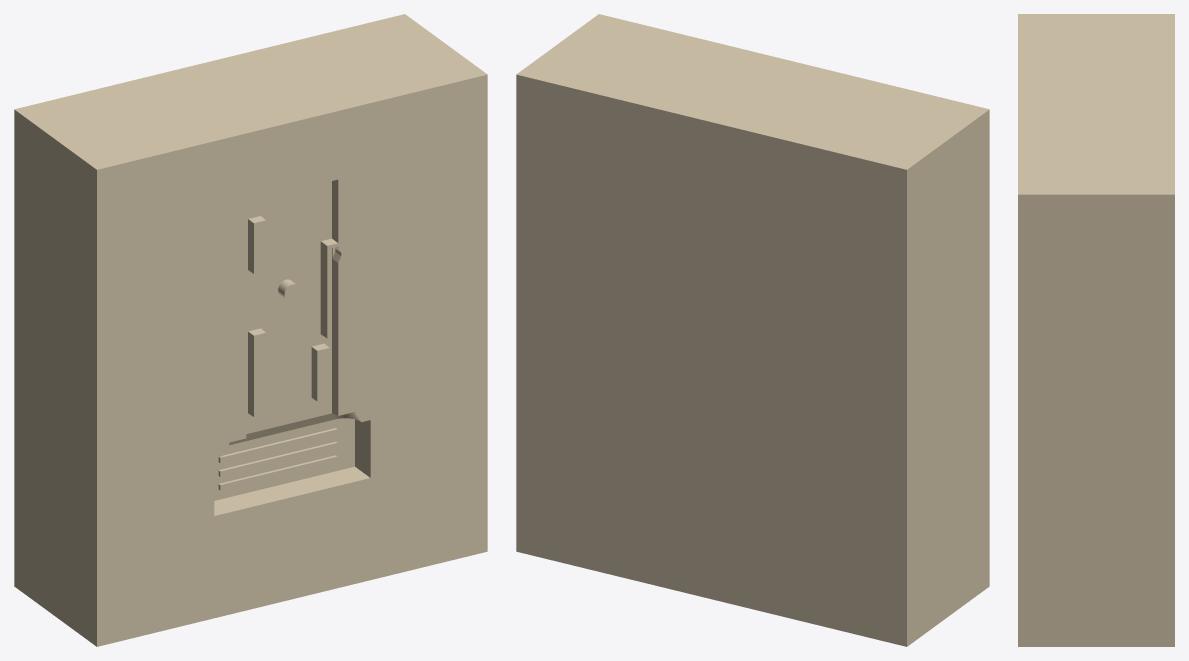
File: .HemoSure_Strip_Tray_CAVITY.step.glb
3 views of the same model, side by side, from view 1: azimuth 30°, elevation 25°; view 2: azimuth 150°, elevation 25°; view 3: azimuth 270°, elevation 25° (orthographic). The views are drawn at different scales.
Visible parts, largest first — view 1: o1; view 2: o1; view 3: o1.
Boxes of the visible parts, box(x1,y1,x2,y2) form: o1: box(14, 14, 487, 646); o1: box(516, 14, 989, 646); o1: box(1018, 14, 1174, 646).
Size of the model in its own units: 0.0603 by 0.0703 by 0.0221.
